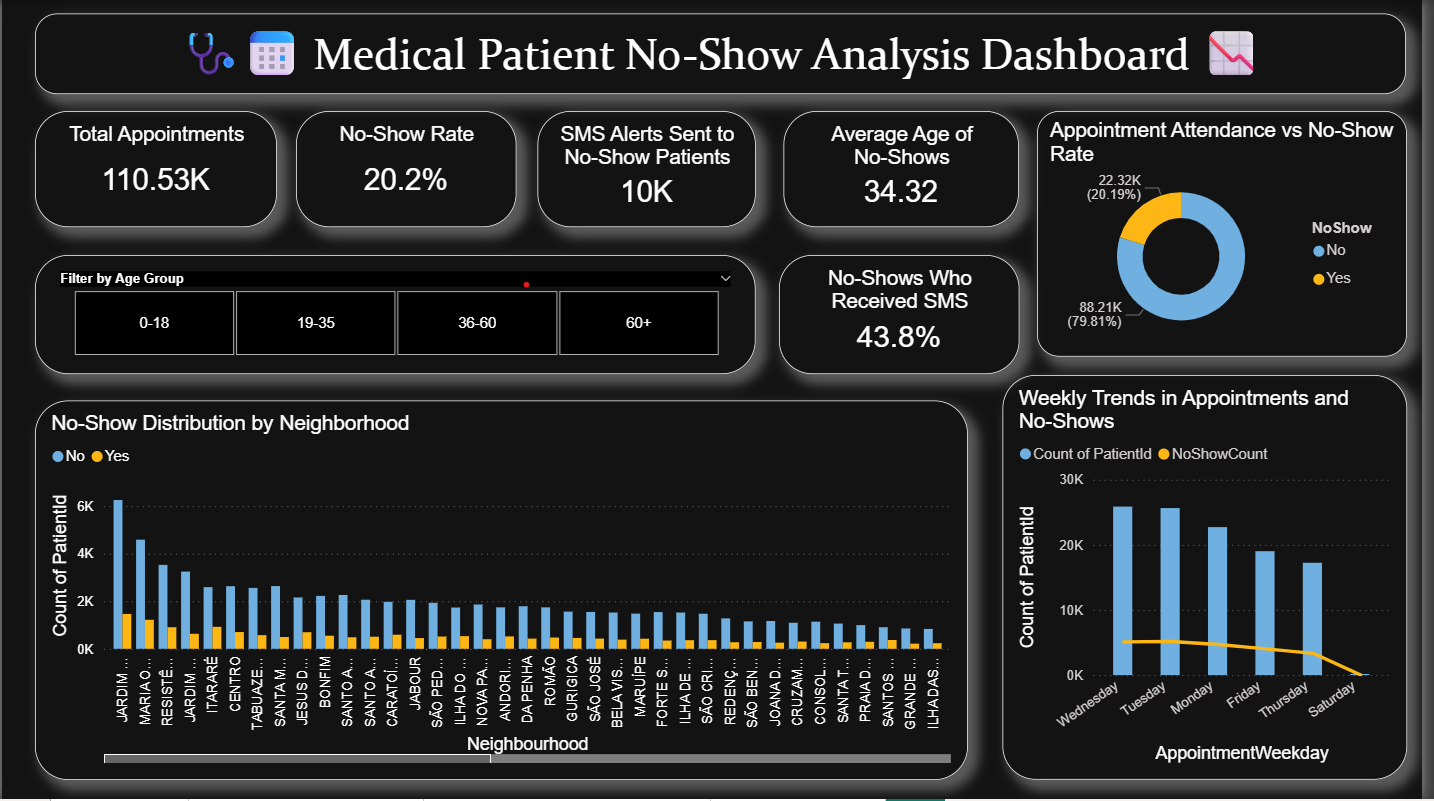

Layout of this report page (visuals, bound fields, positions):
{"tool":"powerbi","page":{"name":"Overview ","canvas":[1280,720],"ordinal":0},"visuals":[{"type":"clusteredColumnChart","title":"No-Show Distribution by Neighborhood","fields":{"Category":["KaggleV2-May-2016.Neighbourhood"],"Series":["KaggleV2-May-2016.NoShow"],"Y":["CountNonNull(KaggleV2-May-2016.PatientId)"]},"box":[30.3,360.4,840.4,342.2],"z":0},{"type":"card","title":" Total Appointments","fields":{"Values":["CountNonNull(KaggleV2-May-2016.AppointmentID)"]},"box":[30.3,99.9,218,104.5],"z":1000},{"type":"card","title":"No-Show Rate","fields":{"Values":["KaggleV2-May-2016.NoShowRate"]},"box":[265,99.9,198.4,104.5],"z":2000},{"type":"card","title":"SMS Alerts Sent to No-Show Patients","fields":{"Values":["KaggleV2-May-2016.SMSSentNoShow"]},"box":[483,99.9,196.8,104.5],"z":3000},{"type":"card","title":"Average Age of No-Shows","fields":{"Values":["KaggleV2-May-2016.AvgAgeNoShow"]},"box":[704.1,99.9,212,104.5],"z":4000},{"type":"card","title":"No-Shows Who Received SMS","fields":{"Values":["KaggleV2-May-2016.PctNoShowWithSMS"]},"box":[699.6,230.2,216.5,107.5],"z":5000},{"type":"lineClusteredColumnComboChart","title":"Weekly Trends in Appointments and No-Shows","fields":{"Category":["KaggleV2-May-2016.AppointmentWeekday"],"Y":["CountNonNull(KaggleV2-May-2016.PatientId)"],"Y2":["KaggleV2-May-2016.NoShowCount"]},"box":[901,337.7,364.9,364.9],"z":6000},{"type":"slicer","fields":{"Values":["KaggleV2-May-2016.AgeGroup"]},"box":[30.3,230.2,649.6,107.5],"z":7000},{"type":"donutChart","title":"Appointment Attendance vs No-Show Rate","fields":{"Category":["KaggleV2-May-2016.NoShow"],"Y":["CountNonNull(KaggleV2-May-2016.AppointmentID)"]},"box":[932.8,99.9,333.1,221.1],"z":8000},{"type":"textbox","title":"🩺📅 Medical Patient No-Show Analysis Dashboard 📉","box":[30.3,12.1,1235.6,72.7],"z":9000}]}

Visuals, with their boxes in screenshot pixels (x1, y1, x2, y2), scaled from the page's 1280x720 canvas onto the 1434x801 screenshot:
"No-Show Distribution by Neighborhood" clusteredColumnChart: select_region(34, 401, 975, 782)
" Total Appointments" card: select_region(34, 111, 278, 227)
"No-Show Rate" card: select_region(297, 111, 519, 227)
"SMS Alerts Sent to No-Show Patients" card: select_region(541, 111, 762, 227)
"Average Age of No-Shows" card: select_region(789, 111, 1026, 227)
"No-Shows Who Received SMS" card: select_region(784, 256, 1026, 376)
"Weekly Trends in Appointments and No-Shows" lineClusteredColumnComboChart: select_region(1009, 376, 1418, 782)
slicer - KaggleV2-May-2016.AgeGroup: select_region(34, 256, 762, 376)
"Appointment Attendance vs No-Show Rate" donutChart: select_region(1045, 111, 1418, 357)
"🩺📅 Medical Patient No-Show Analysis Dashboard 📉" textbox: select_region(34, 13, 1418, 94)
